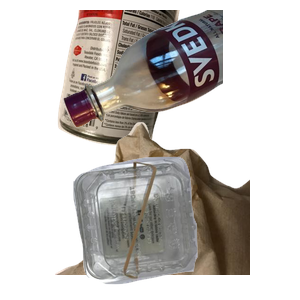glass: (60, 10, 300, 130)
metal: (55, 10, 227, 149)
plastic: (71, 154, 300, 300)
trash: (52, 120, 292, 300)
